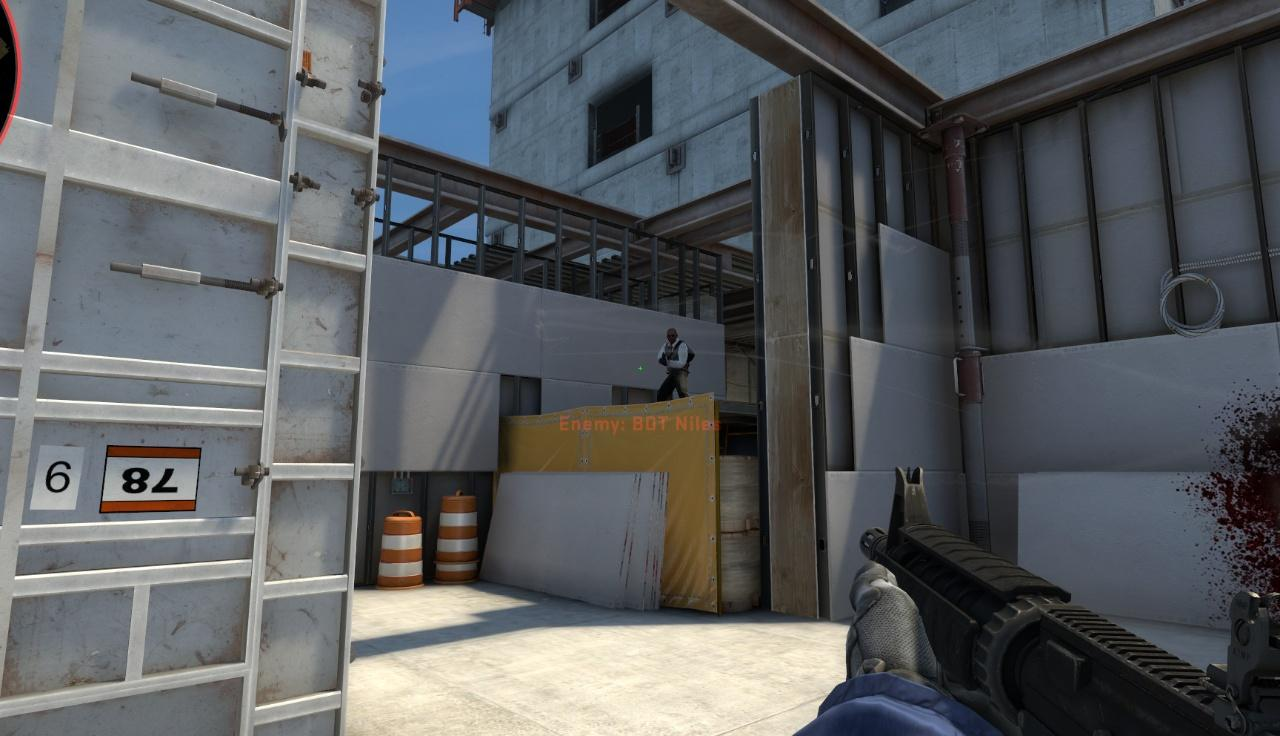rifle: (839, 471, 1273, 734)
tt: (653, 328, 691, 401)
tthead: (666, 328, 678, 342)
